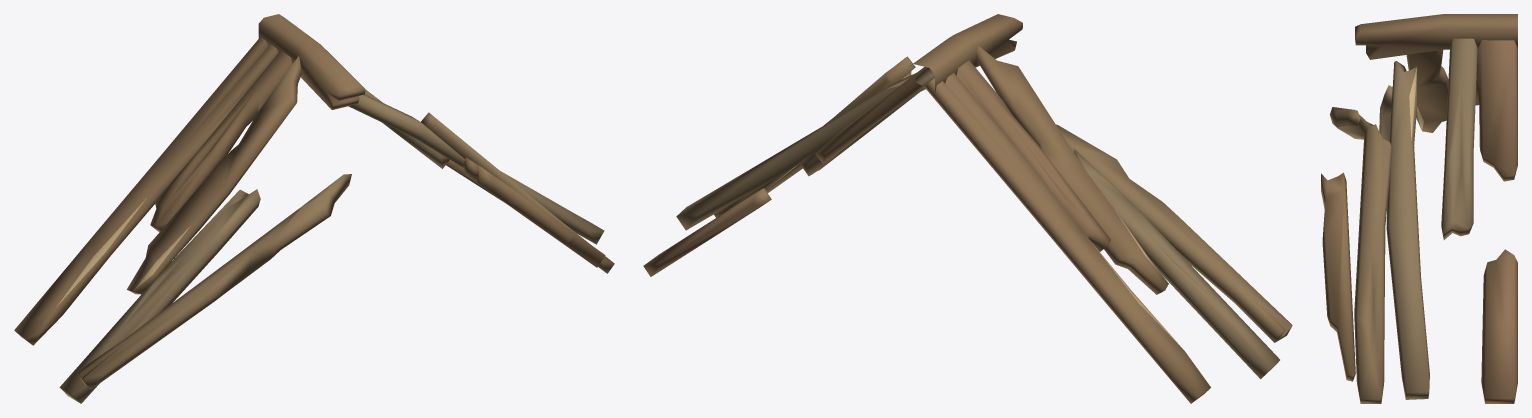
The model's file is rpgpp_av_roof_02_6x3x3_c.gltf.
The picture shows the model from 3 angles, left to right: view 1: azimuth 30°, elevation 25°; view 2: azimuth 150°, elevation 25°; view 3: azimuth 270°, elevation 25°; orthographic projection. The views are drawn at different scales.
Visible parts, largest first — view 1: rpgpp_av_roof_02_6x3x3_c; view 2: rpgpp_av_roof_02_6x3x3_c; view 3: rpgpp_av_roof_02_6x3x3_c.
Part boxes in pixels (bbox=[...]): rpgpp_av_roof_02_6x3x3_c: bbox=[14, 14, 614, 403]; rpgpp_av_roof_02_6x3x3_c: bbox=[643, 14, 1292, 403]; rpgpp_av_roof_02_6x3x3_c: bbox=[1321, 14, 1517, 403].
Bounding box in the file's own units: 0.0855 × 0.0409 × 0.0268.
1 material, 1 textured.
